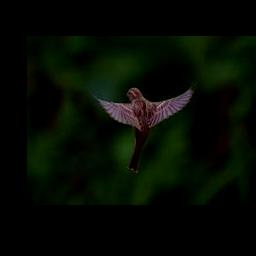Sparrow: (90, 81, 197, 173)
